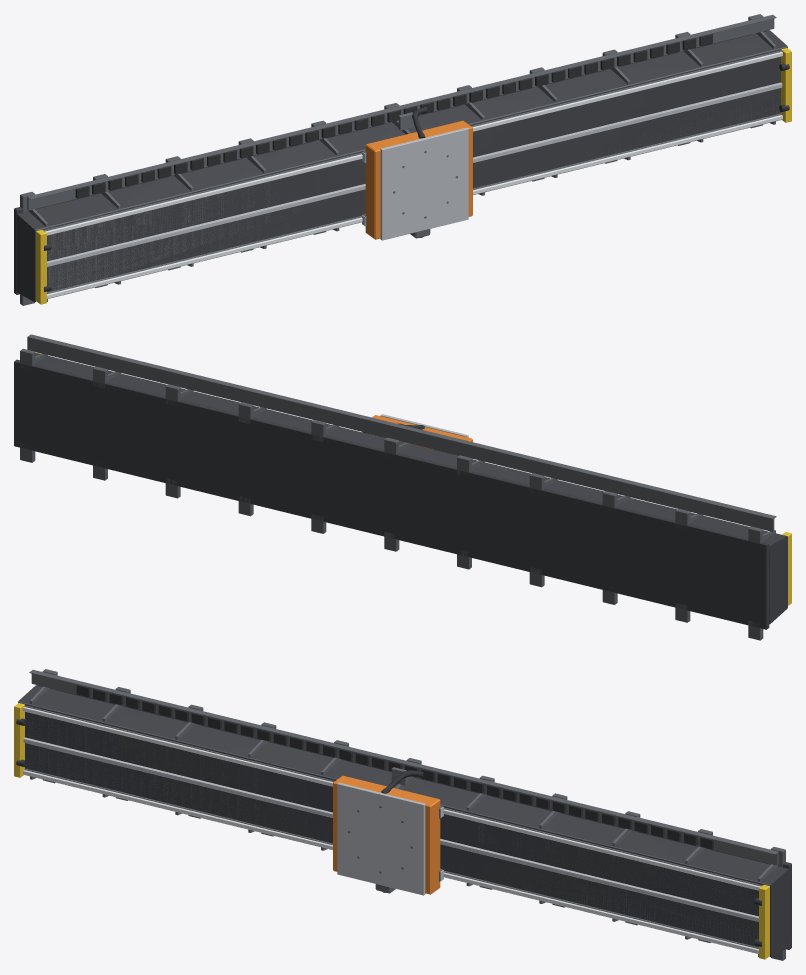
Rendered from rail.glb.
3 views of the same model, one above another, from view 1: azimuth 30°, elevation 25°; view 2: azimuth 150°, elevation 25°; view 3: azimuth 330°, elevation 25° (orthographic).
Visible parts, largest first — view 1: static, carriage; view 2: static, carriage; view 3: static, carriage.
Boxes of the visible parts, x1,y1,x2,y2 form: static: (14, 14, 791, 305); carriage: (362, 106, 472, 240); static: (14, 334, 791, 640); carriage: (362, 414, 472, 459); static: (14, 669, 791, 960); carriage: (333, 767, 443, 895).
Bounding box in the file's own units: 8.48 × 1.26 × 0.691.
